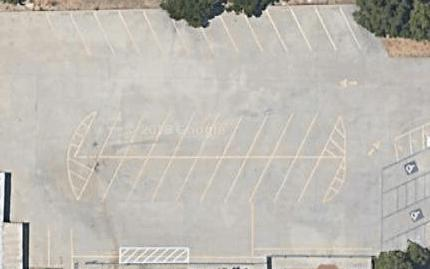parkingspot: (42, 4, 387, 57), (72, 108, 344, 160), (73, 156, 347, 205), (380, 146, 430, 197), (379, 195, 430, 245), (27, 227, 74, 268)
